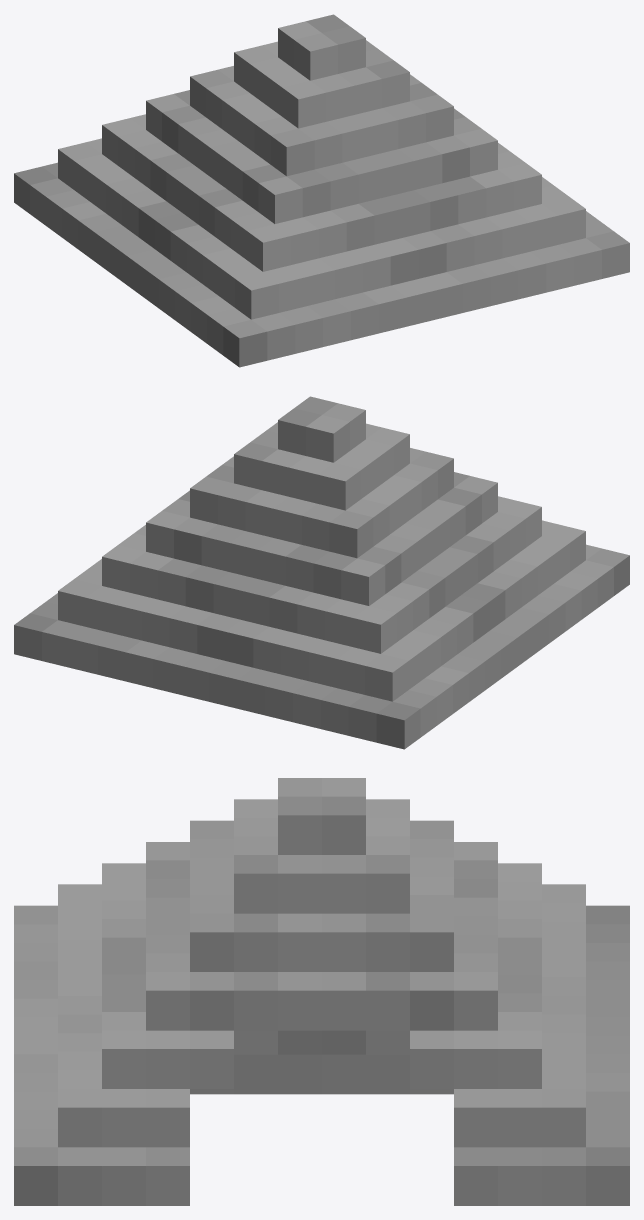
File: waystone_model_dwarf.obj
3 renders of one model, top to bottom at view 1: azimuth 30°, elevation 25°; view 2: azimuth 150°, elevation 25°; view 3: azimuth 270°, elevation 25°, orthographic. The views are drawn at different scales.
Parts seen in each view (by area): view 1: Cube.002_Cube.000; view 2: Cube.002_Cube.000; view 3: Cube.002_Cube.000.
Part boxes in pixels (x1,y1,x2,y2): Cube.002_Cube.000: (14,14,629,367); Cube.002_Cube.000: (14,396,629,749); Cube.002_Cube.000: (14,778,629,1205).
Bounding box in the file's own units: 0.8727 × 0.4363 × 0.8727.
